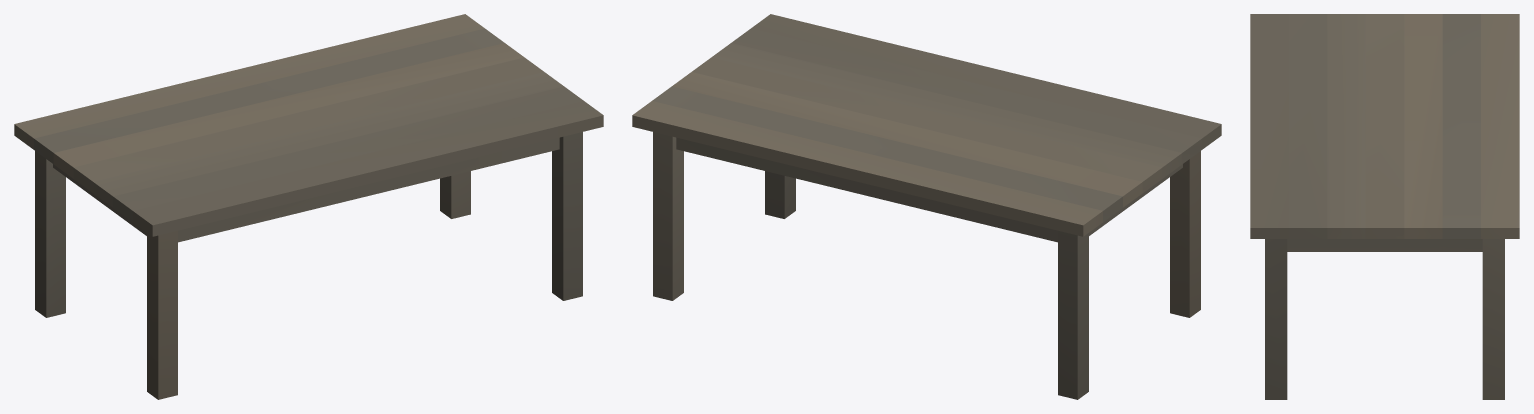
Rendered from table.dining.weathered.glb.
3 views of the same model, side by side, from view 1: azimuth 30°, elevation 25°; view 2: azimuth 150°, elevation 25°; view 3: azimuth 270°, elevation 25° (orthographic). The views are drawn at different scales.
Parts seen in each view (by area): view 1: table_dining_weathered; view 2: table_dining_weathered; view 3: table_dining_weathered.
Part boxes in pixels (left/top/right/bottom): table_dining_weathered: left=14, top=14, right=603, bottom=399; table_dining_weathered: left=632, top=14, right=1221, bottom=399; table_dining_weathered: left=1250, top=14, right=1519, bottom=399.
Size of what is drawn, in the model's own units: 2.06 by 0.8 by 1.1.
